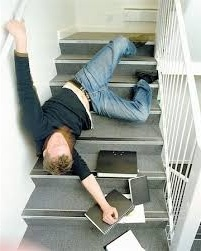fall: (5, 15, 172, 218)
